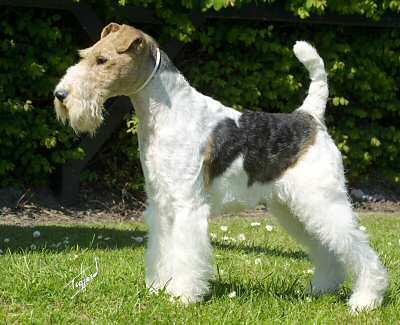wire-haired_fox_terrier: (53, 21, 389, 317)
